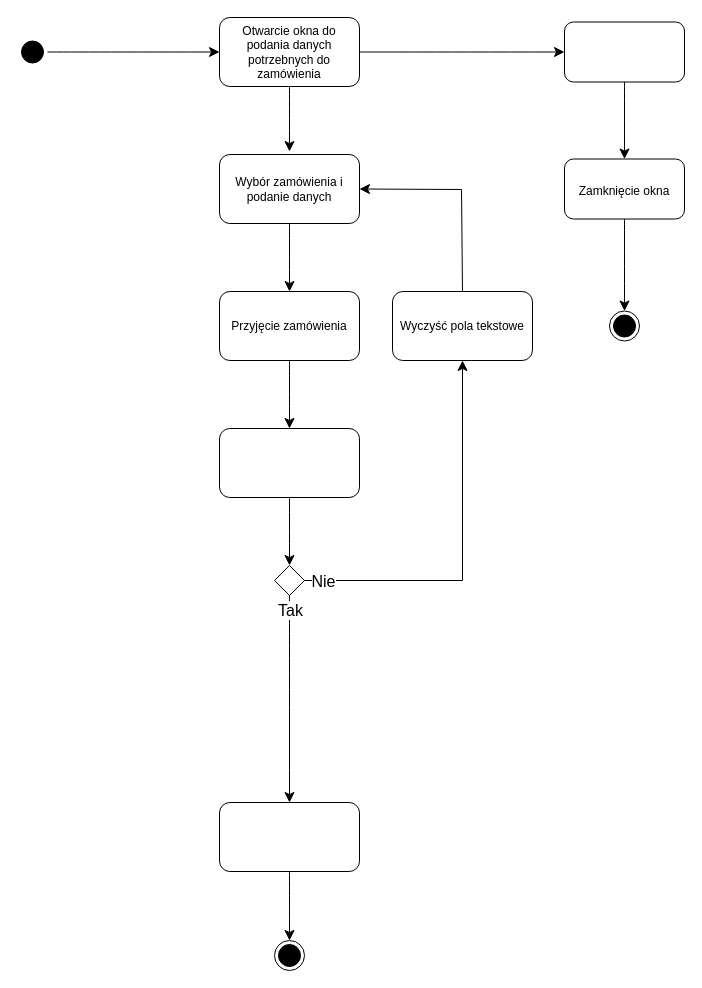
Image size: 702x988. Some labels were removed from this diagram. Each missing label, with the centre of its shape:
"Drukuj paragon" belongs at point (289, 837).
"Powrót do okna logowania" belongs at point (624, 51).
"Sprawdź poprawność danych" belongs at point (289, 463).
